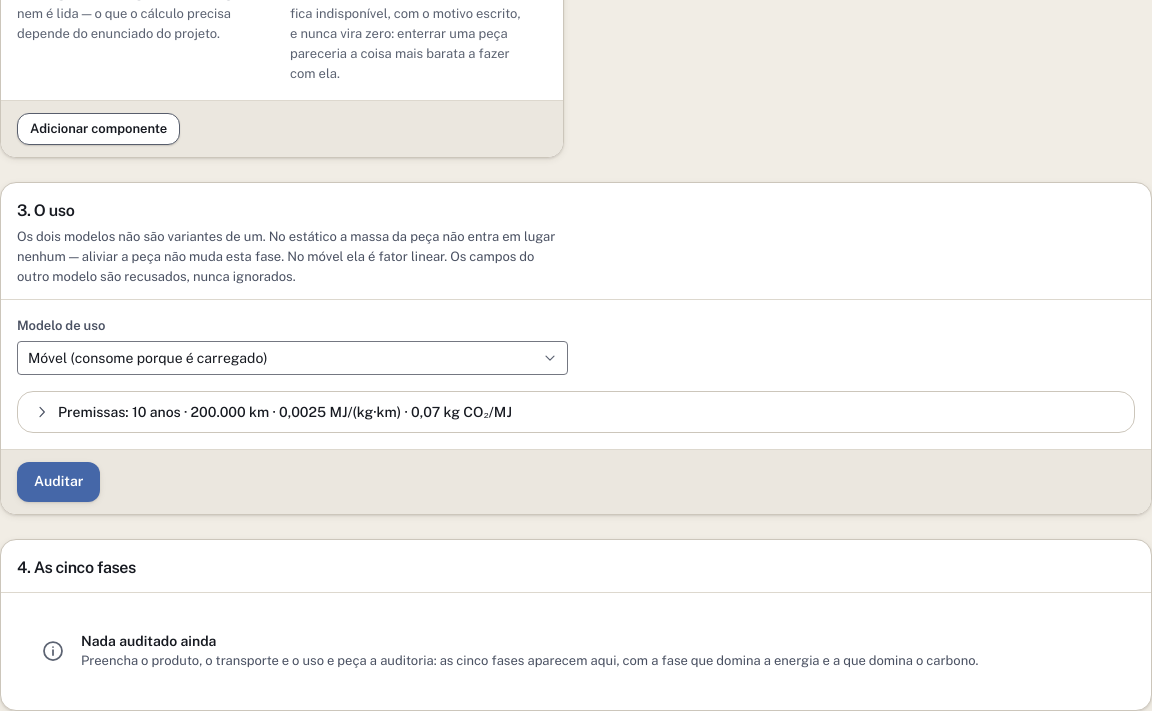
Test: Auditoria ambiental › mostra as cinco fases na ordem em que a peça as vive
(page scrolled)
Click the button "Auditar" at (59, 482), box [17,462,100,502]
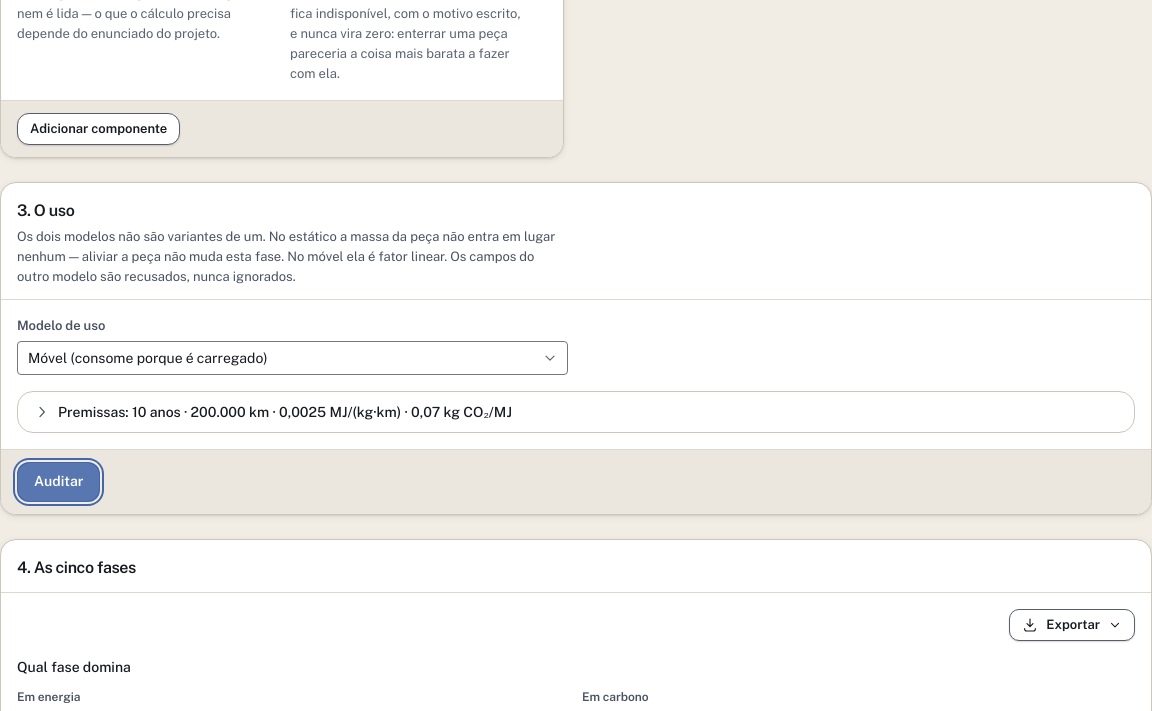
Expected: the text "Qual fase domina" is shown, [17,658,131,674]
